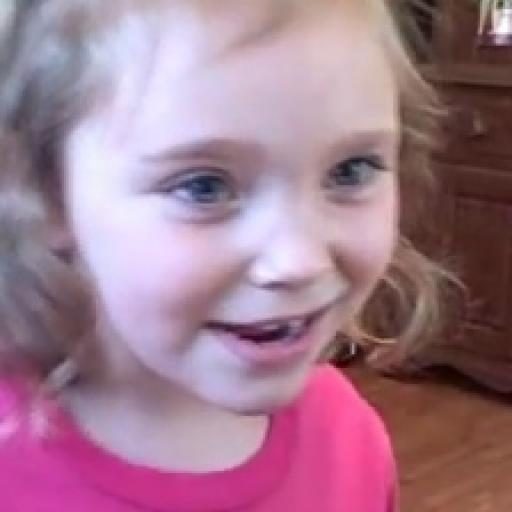Autism: (39, 8, 431, 461)
